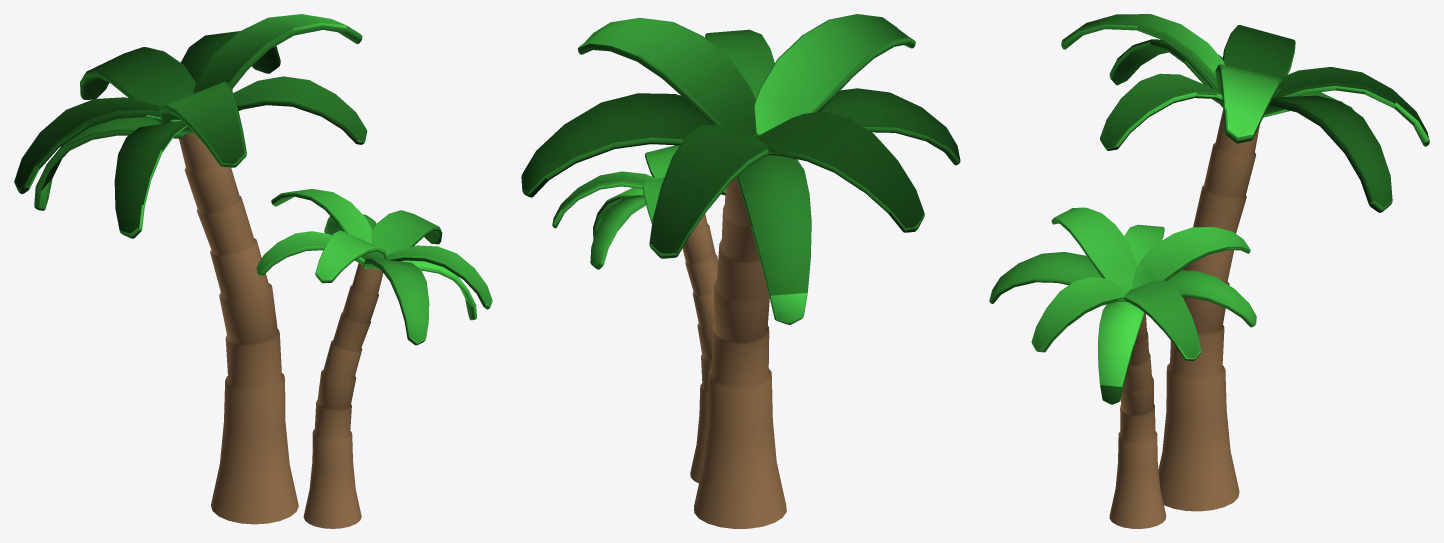
File: dupla palma.fbx
3 views of the same model, side by side, from view 1: azimuth 30°, elevation 25°; view 2: azimuth 150°, elevation 25°; view 3: azimuth 270°, elevation 25° (orthographic). The views are drawn at different scales.
Visible parts, largest first — view 1: Stablo.005; view 2: Stablo.005; view 3: Stablo.005.
Boxes of the visible parts, box(x1,y1,x2,y2) form: Stablo.005: box(14, 14, 492, 528); Stablo.005: box(521, 14, 960, 528); Stablo.005: box(989, 14, 1429, 528).
Size of the model in its own units: 580 by 660 by 587.
2 materials, 1 textured.
